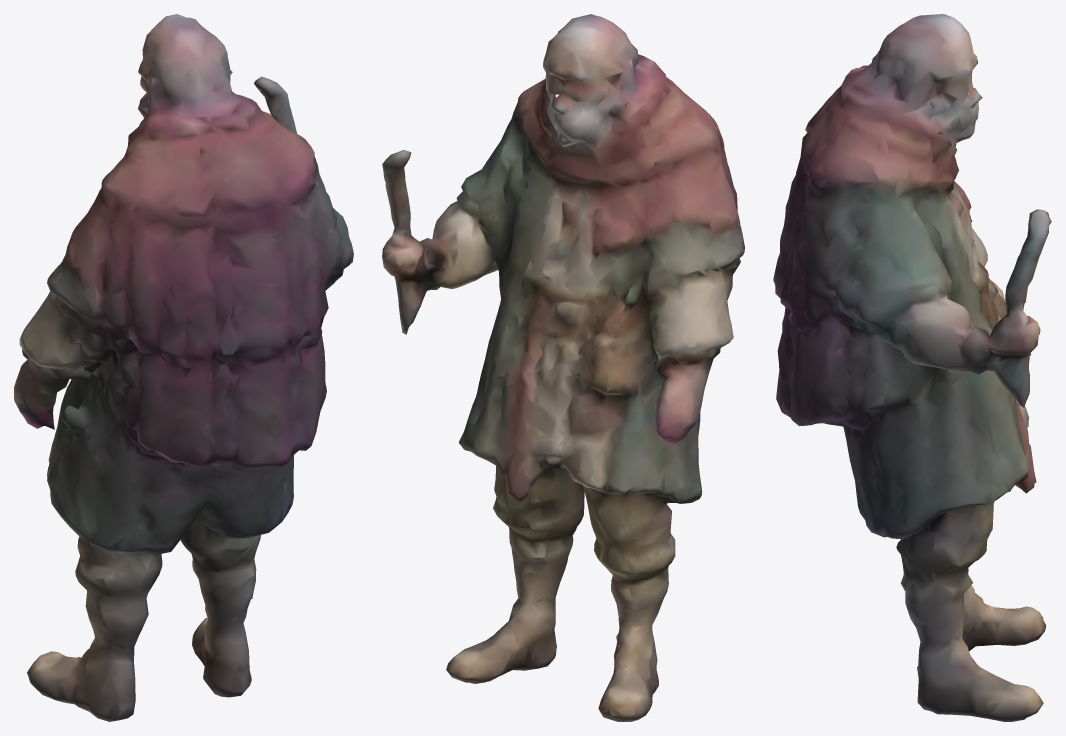
The model's file is npc_07_morador_idoso.glb.
3 renders of one model, left to right at view 1: azimuth 30°, elevation 25°; view 2: azimuth 150°, elevation 25°; view 3: azimuth 270°, elevation 25°, orthographic. The views are drawn at different scales.
Size of the model in its own units: 0.4881 by 1.01 by 0.3805.
